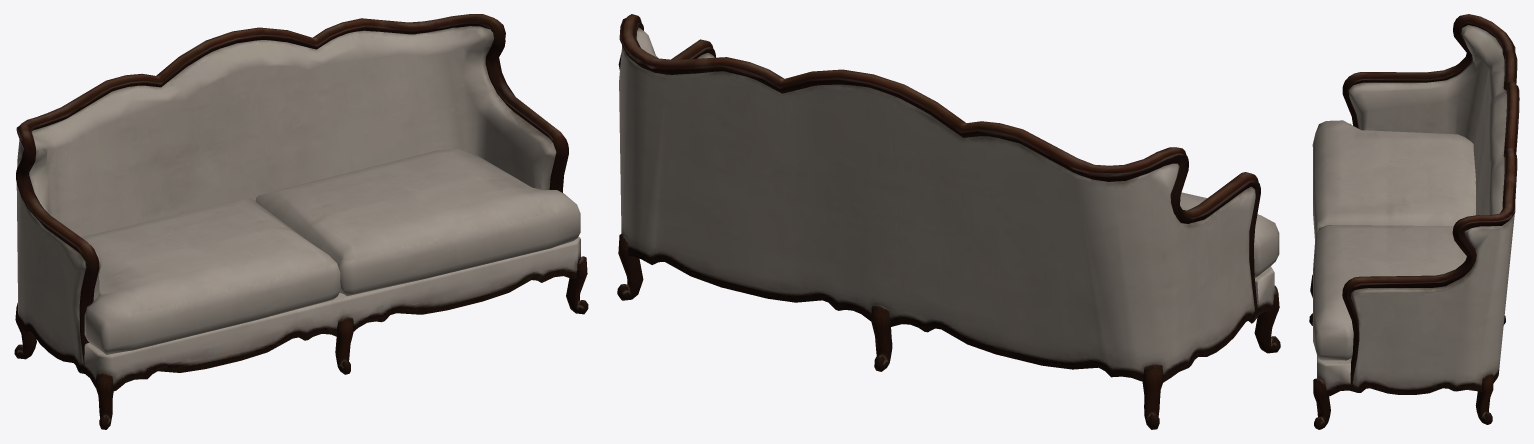
Rendered from Sofa_01.glb.
The picture shows the model from 3 angles, left to right: view 1: azimuth 30°, elevation 25°; view 2: azimuth 150°, elevation 25°; view 3: azimuth 270°, elevation 25°; orthographic projection. The views are drawn at different scales.
Visible parts, largest first — view 1: Sofa_01; view 2: Sofa_01; view 3: Sofa_01.
Part boxes in pixels (x1,y1,x2,y2): Sofa_01: (14,14,588,429); Sofa_01: (617,14,1280,429); Sofa_01: (1309,14,1519,429).
Bounding box in the file's own units: 1.57 × 0.7966 × 0.658.
Materials: 1 (1 with a texture image).
